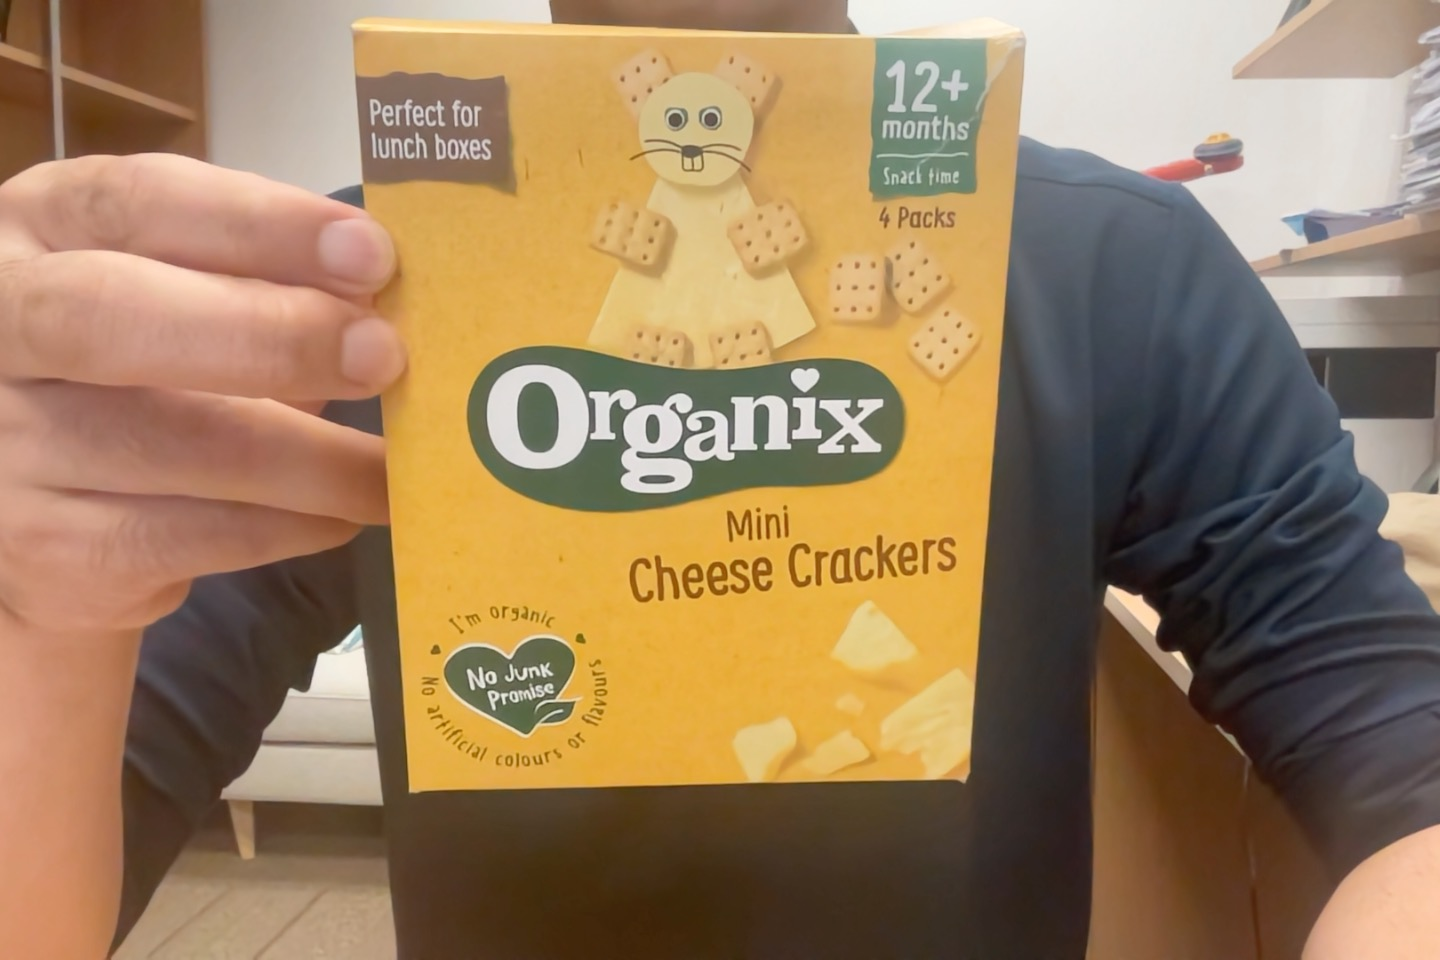Crackers_1-99g_NonHalal_NonHealthy: (402, 59, 967, 756)
